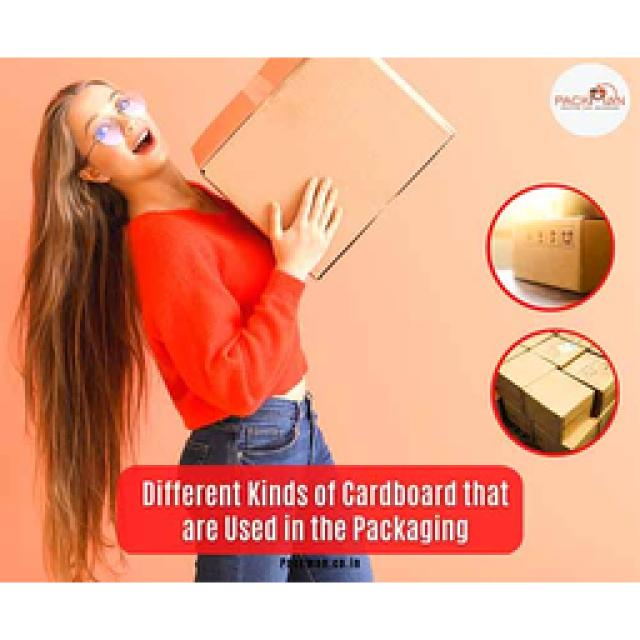cardboard: (192, 58, 455, 278), (485, 182, 612, 308), (495, 330, 615, 452), (550, 65, 620, 112)
